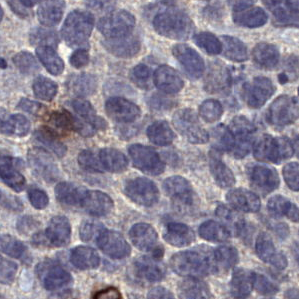Lymphocyte: (38, 103, 74, 142)
